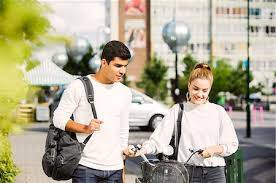no-mask: (98, 39, 130, 86), (185, 59, 213, 109)
